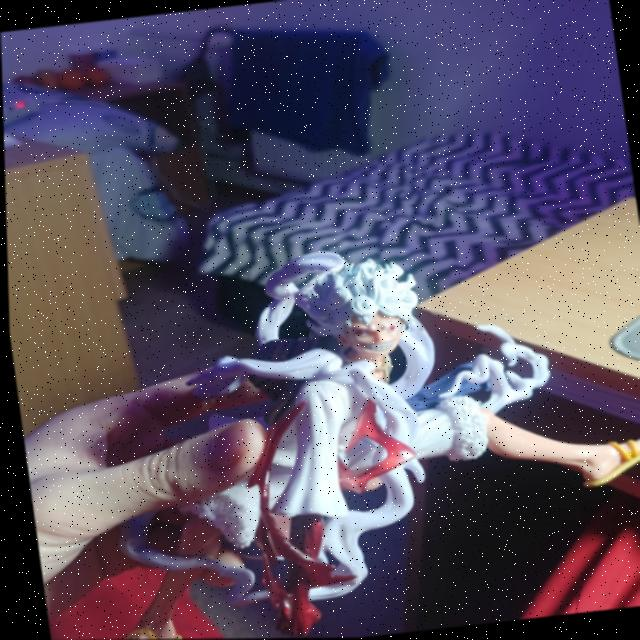luffy: (147, 211, 640, 636)
